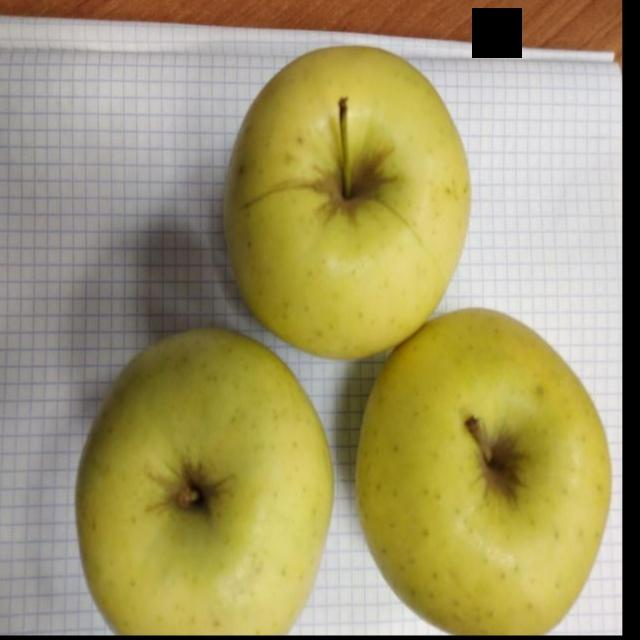green apple: (356, 306, 613, 635), (71, 329, 334, 635), (223, 44, 472, 365)
